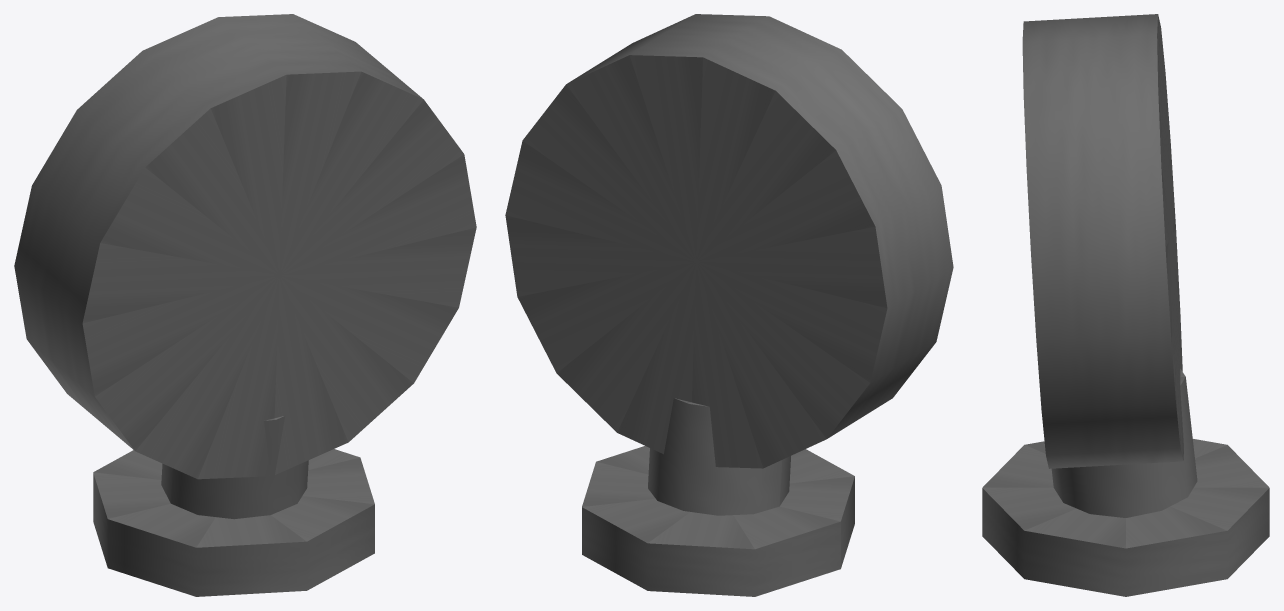
Rendered from mastarmcurve_10x2_c10_down.obj.
3 renders of one model, left to right at view 1: azimuth 30°, elevation 25°; view 2: azimuth 150°, elevation 25°; view 3: azimuth 270°, elevation 25°, orthographic. The views are drawn at different scales.
Parts seen in each view (by area): view 1: mastarm_10x2_c10_down; view 2: mastarm_10x2_c10_down; view 3: mastarm_10x2_c10_down.
Boxes of the visible parts, x1,y1,x2,y2 form: mastarm_10x2_c10_down: (14,14,476,596); mastarm_10x2_c10_down: (505,14,953,596); mastarm_10x2_c10_down: (982,14,1269,596).
Size of the model in its own units: 0.624 by 0.7696 by 0.4.
